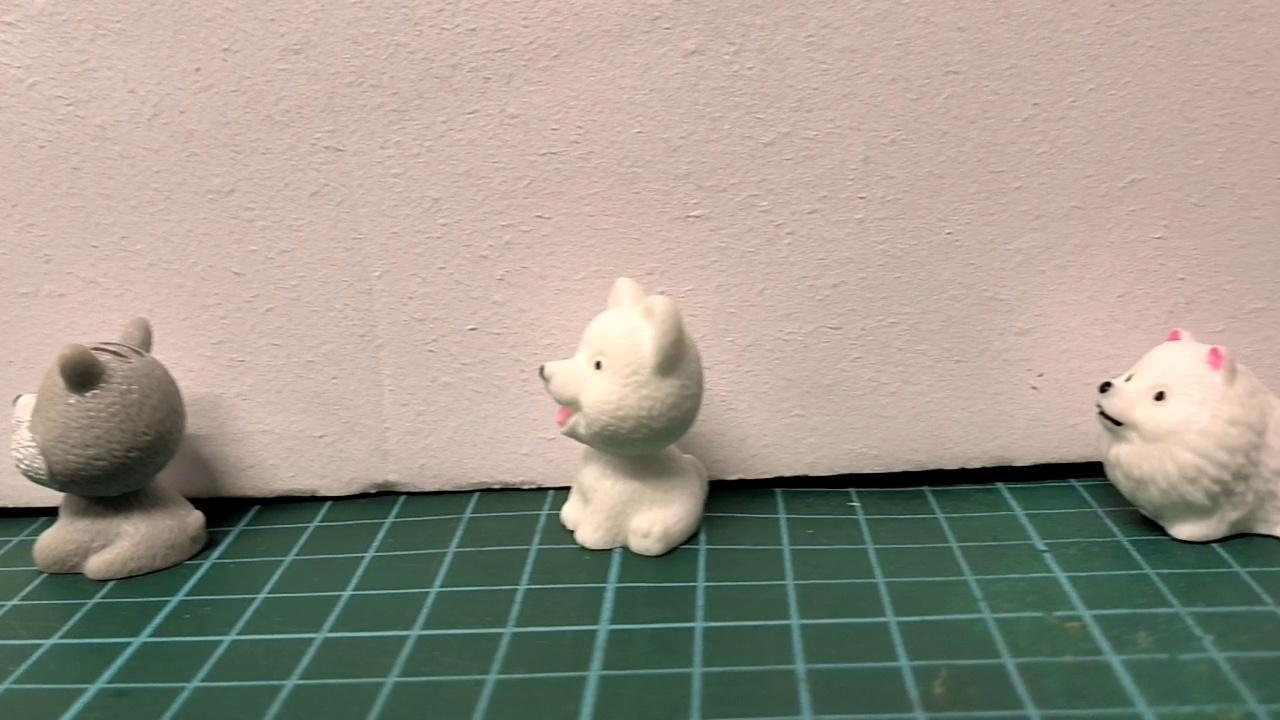pet: (0, 313, 214, 577), (536, 270, 715, 559), (1094, 323, 1280, 541)
